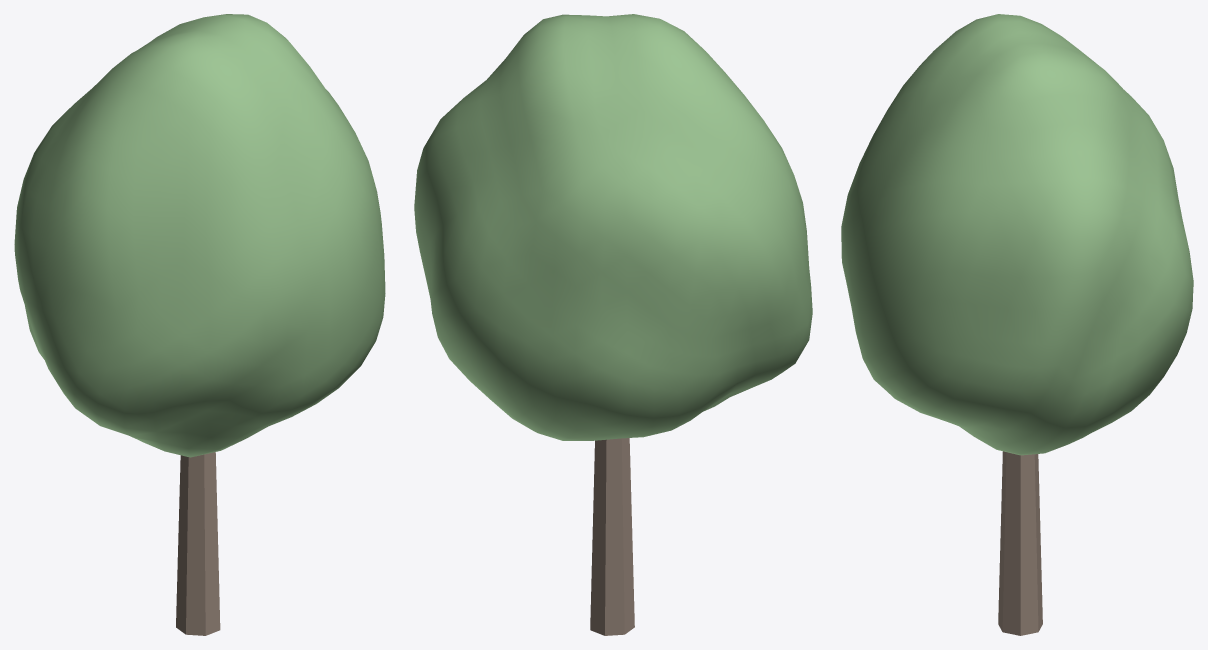
File: tree-broadleaf-d.glb
3 renders of one model, left to right at view 1: azimuth 30°, elevation 25°; view 2: azimuth 150°, elevation 25°; view 3: azimuth 270°, elevation 25°, orthographic.
Visible parts, largest first — view 1: tree-broadleaf-d; view 2: tree-broadleaf-d; view 3: tree-broadleaf-d.
Part boxes in pixels (x1,y1,x2,y2): tree-broadleaf-d: (14, 14, 385, 635); tree-broadleaf-d: (414, 14, 812, 635); tree-broadleaf-d: (841, 14, 1193, 635).
Size of the model in its own units: 0.6098 by 1 by 0.535.
